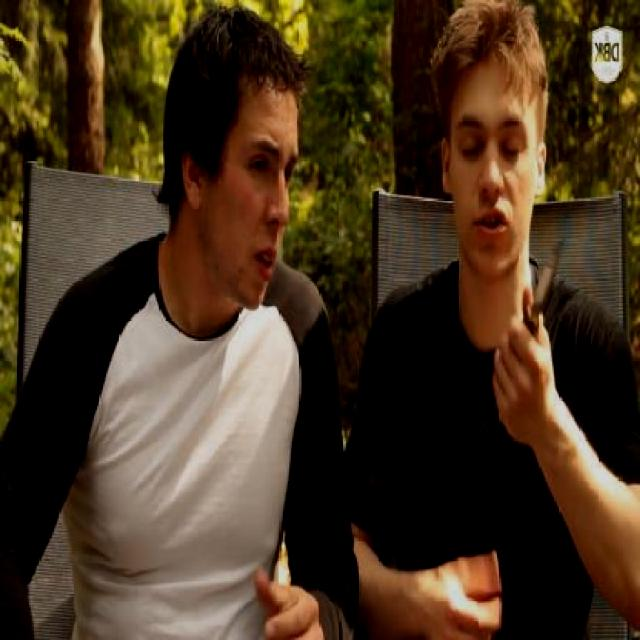knife: (483, 225, 569, 397)
